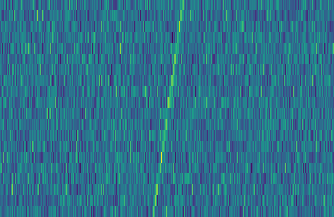signal: (149, 0, 188, 217)
